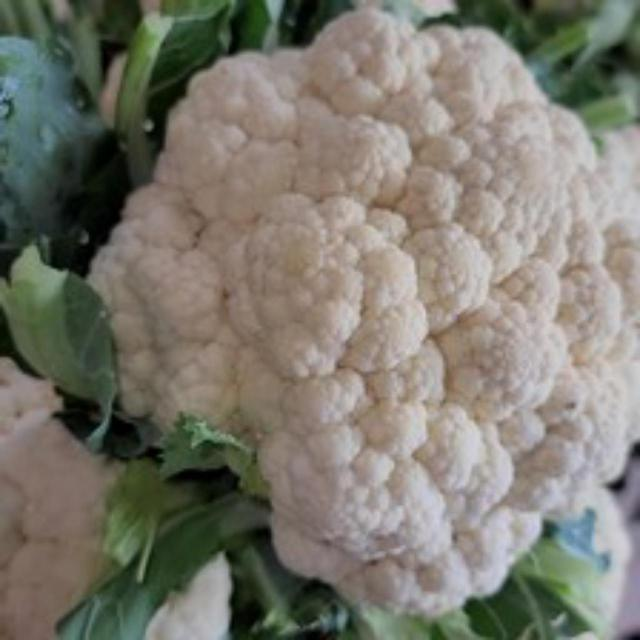cauliflower: (94, 6, 637, 628)
